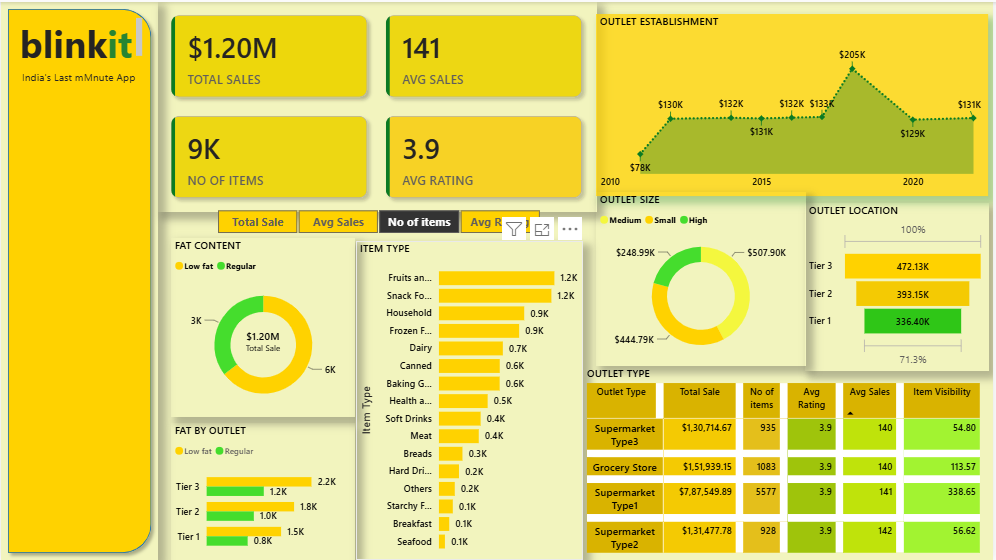

This screenshot's page, from the dashboard's own definition file:
{"tool":"powerbi","page":{"name":"blinkit","canvas":[1280,720],"ordinal":0},"visuals":[{"type":"shape","box":[0,0,203,720],"z":0},{"type":"textbox","box":[11.5,82.1,177.1,28.8],"z":2000},{"type":"textbox","box":[14.4,15.8,172.8,66.2],"z":3000},{"type":"cardVisual","fields":{"Data":["BlinkIT Grocery Data.Total Sale","BlinkIT Grocery Data.Avg Sales","BlinkIT Grocery Data.No of items","BlinkIT Grocery Data.Avg Rating"]},"box":[203,0,565.9,270.7],"z":4000},{"type":"donutChart","title":" FAT CONTENT","fields":{"Y":["BlinkIT Grocery Data.Total Sale"],"Category":["BlinkIT Grocery Data.Item Fat Content"]},"box":[219.7,304.7,238.1,231],"z":6000},{"type":"slicer","fields":{"Values":["MATRICS.MATRICS"]},"box":[253.7,262.2,464.9,39.7],"z":7000},{"type":"cardVisual","fields":{"Data":["BlinkIT Grocery Data.Total Sale"]},"box":[292,408.2,93.5,60.9],"z":8000},{"type":"clusteredBarChart","title":"FAT BY OUTLET","fields":{"Y":["BlinkIT Grocery Data.Total Sale"],"Category":["BlinkIT Grocery Data.Outlet Location Type"],"Series":["BlinkIT Grocery Data.Item Fat Content"]},"box":[219.7,542.8,238.1,177.2],"z":9000},{"type":"barChart","title":"ITEM TYPE","fields":{"Y":["BlinkIT Grocery Data.Total Sale"],"Category":["BlinkIT Grocery Data.Item Type"]},"box":[457.8,309,293.4,411],"z":12000},{"type":"lineChart","title":"OUTLET ESTABLISHMENT ","fields":{"Category":["BlinkIT Grocery Data.Outlet Establishment Year"],"Y":["BlinkIT Grocery Data.Total Sale"]},"box":[768.2,15.6,506,235.3],"z":14000},{"type":"donutChart","title":"OUTLET SIZE","fields":{"Y":["BlinkIT Grocery Data.Total Sale"],"Category":["BlinkIT Grocery Data.Outlet Size"]},"box":[768.2,245.2,270.7,223.9],"z":16000},{"type":"funnel","title":"OUTLET LOCATION ","fields":{"Y":["Sum(BlinkIT Grocery Data.Sales)"],"Category":["BlinkIT Grocery Data.Outlet Location Type"]},"box":[1037.5,259.4,236.7,216.9],"z":18000},{"type":"pivotTable","title":"OUTLET TYPE","fields":{"Rows":["BlinkIT Grocery Data.Outlet Type"],"Values":["BlinkIT Grocery Data.Total Sale","BlinkIT Grocery Data.No of items","BlinkIT Grocery Data.Avg Rating","BlinkIT Grocery Data.Avg Sales","Sum(BlinkIT Grocery Data.Item Visibility)"]},"box":[751.2,469.1,528.7,250.9],"z":20000}]}

Visuals, with their boxes in screenshot pixels (x1, y1, x2, y2), scaled from the page's 1280x720 canvas onto the 996x560 screenshot:
shape: [x1=0, y1=0, x2=158, y2=559]
textbox: [x1=9, y1=64, x2=147, y2=86]
textbox: [x1=11, y1=12, x2=146, y2=64]
cardVisual - BlinkIT Grocery Data.Total Sale x BlinkIT Grocery Data.Avg Sales: [x1=158, y1=0, x2=598, y2=211]
" FAT CONTENT" donutChart: [x1=171, y1=237, x2=356, y2=417]
slicer - MATRICS.MATRICS: [x1=197, y1=204, x2=559, y2=235]
cardVisual - BlinkIT Grocery Data.Total Sale: [x1=227, y1=317, x2=300, y2=365]
"FAT BY OUTLET" clusteredBarChart: [x1=171, y1=422, x2=356, y2=559]
"ITEM TYPE" barChart: [x1=356, y1=240, x2=585, y2=559]
"OUTLET ESTABLISHMENT " lineChart: [x1=598, y1=12, x2=991, y2=195]
"OUTLET SIZE" donutChart: [x1=598, y1=191, x2=808, y2=365]
"OUTLET LOCATION " funnel: [x1=807, y1=202, x2=991, y2=370]
"OUTLET TYPE" pivotTable: [x1=585, y1=365, x2=995, y2=559]
